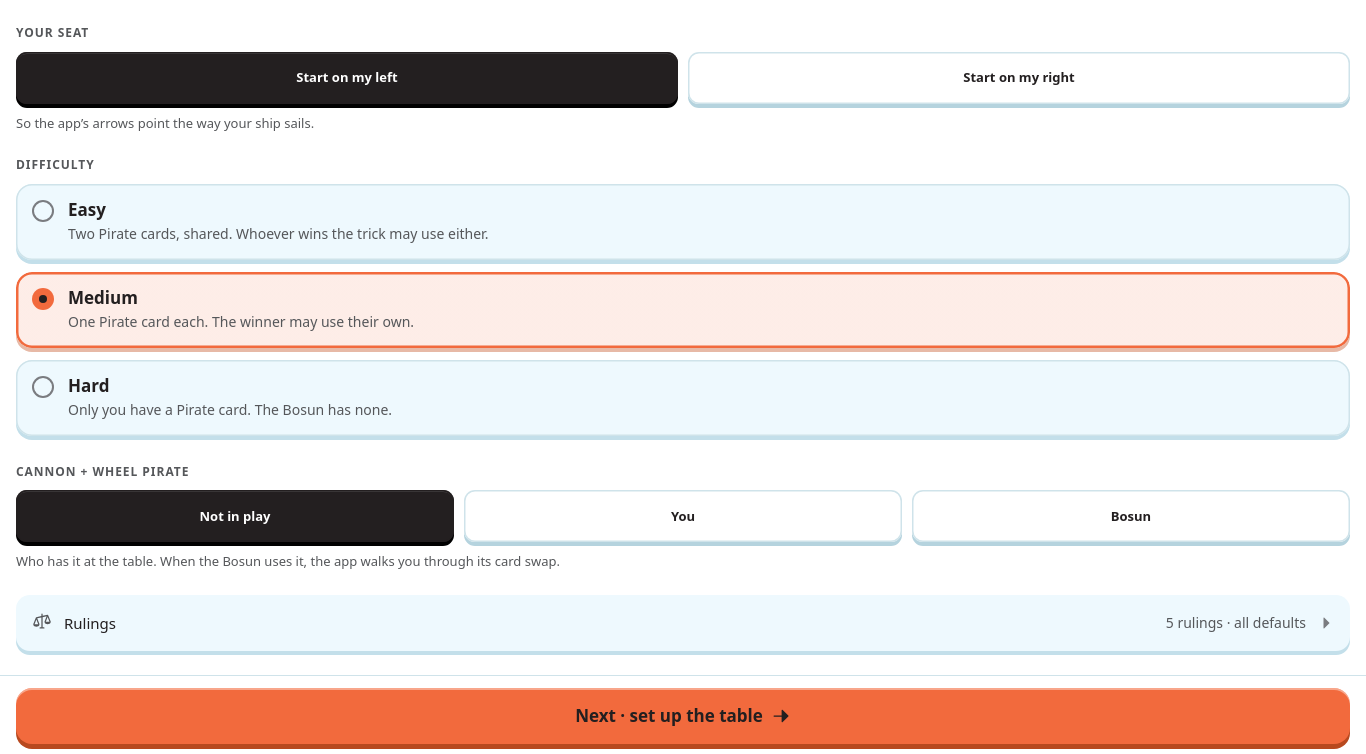
the rulings sheet (design B4; docs/automa.md → Rulings) › lists the five rulings with their defaults and sources
This screenshot has width=1366, height=754.
(page scrolled)
Click the button "Rulings 5 rulings · all defaults" at (90, 623), box [16,595,1350,651]
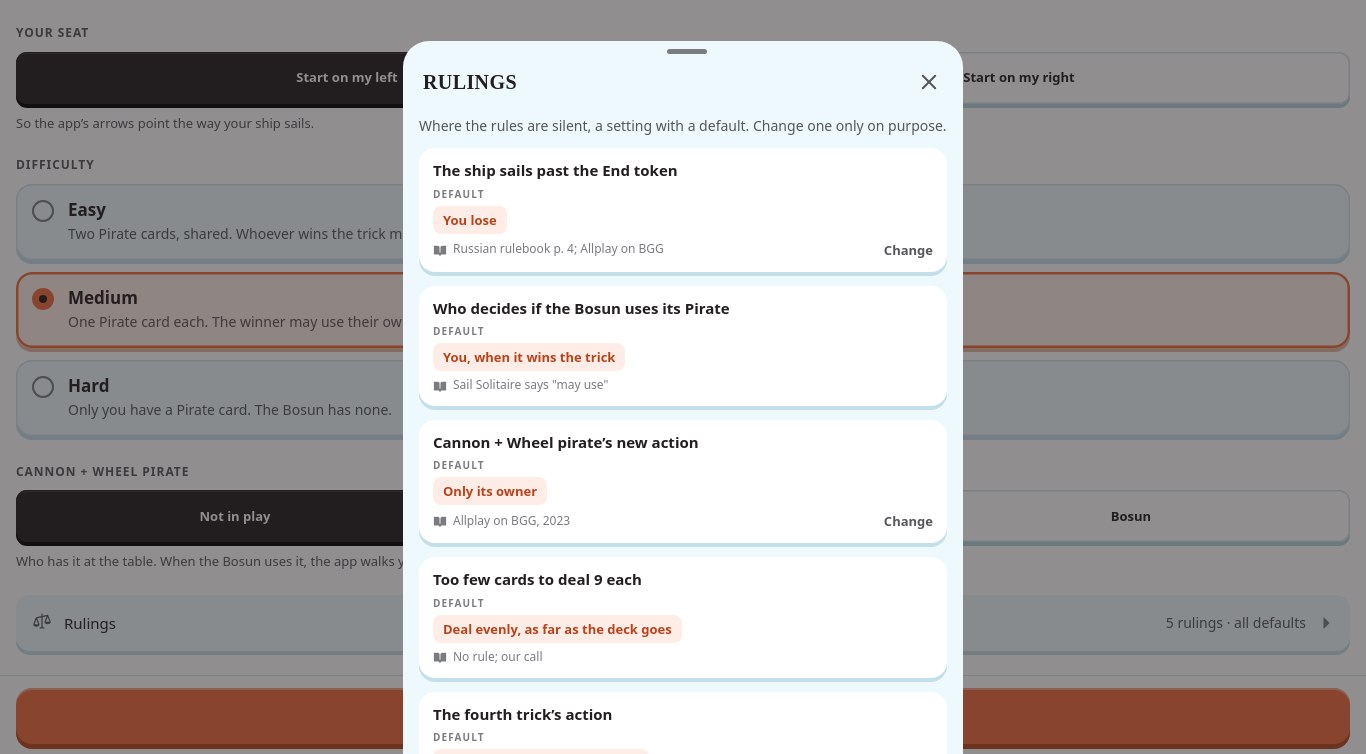
Expected: the text "DEFAULT" is shown 5 times, [433,186,485,200]; [433,324,485,338]; [433,458,485,472]; [433,596,485,610]; [433,730,485,744]
Expected: the text "Russian rulebook p. 4; Allplay on BGG" is shown, [453,240,664,257]
Expected: the number of buttons named "Change:" is 3
